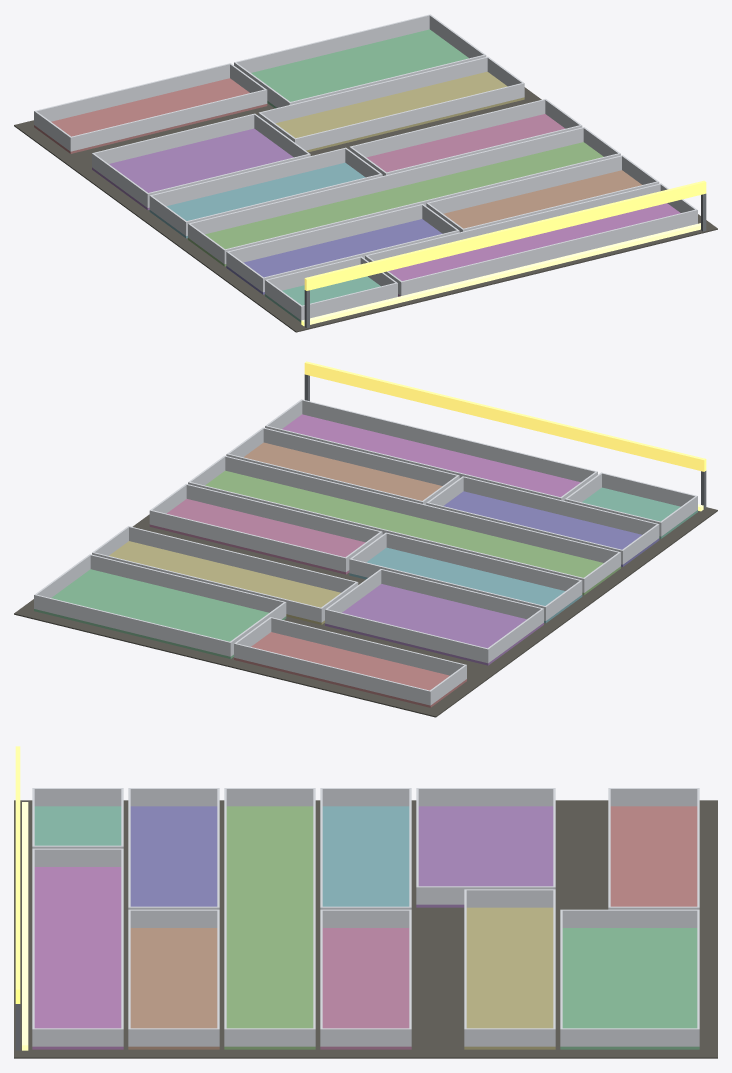
Rendered from hall-meter-techs.glb.
3 views of the same model, one above another, from view 1: azimuth 30°, elevation 25°; view 2: azimuth 150°, elevation 25°; view 3: azimuth 270°, elevation 25° (orthographic). The views are drawn at different scales.
Parts seen in each view (by area): view 1: Meter Technicians; view 2: Meter Technicians; view 3: Meter Technicians.
Boxes of the visible parts, x1,y1,x2,y2 form: Meter Technicians: (14, 14, 717, 332); Meter Technicians: (14, 361, 717, 717); Meter Technicians: (14, 746, 717, 1058).
Size of the model in its own units: 38 by 4.3 by 44.
